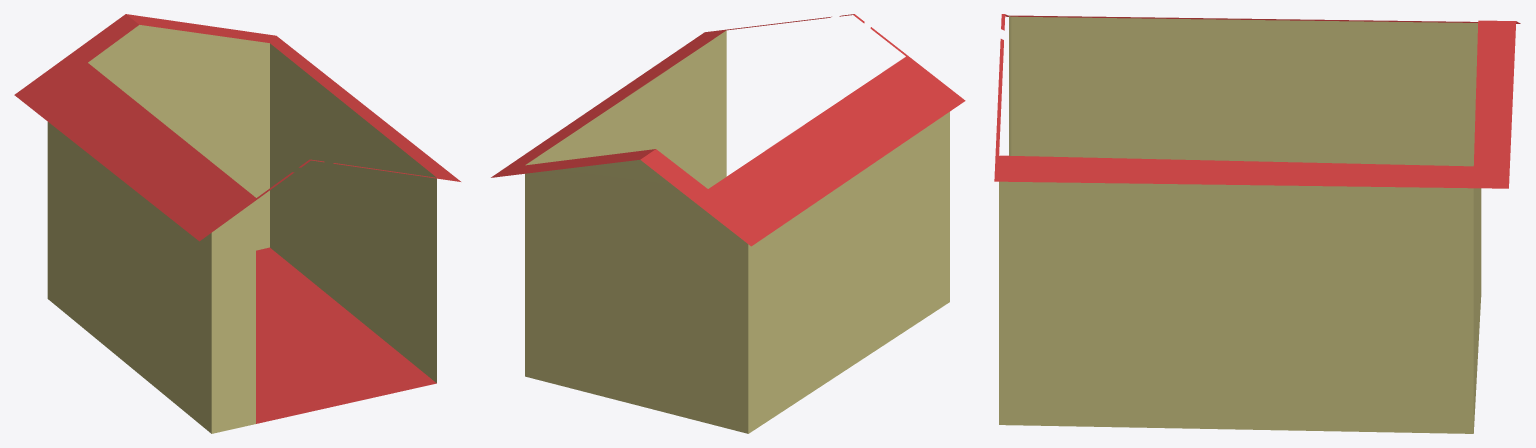
3 views of the same model, side by side, from view 1: azimuth 30°, elevation 25°; view 2: azimuth 150°, elevation 25°; view 3: azimuth 270°, elevation 25° (orthographic). The views are drawn at different scales.
Size of the model in its own units: 8.94 by 11.6 by 8.04.
